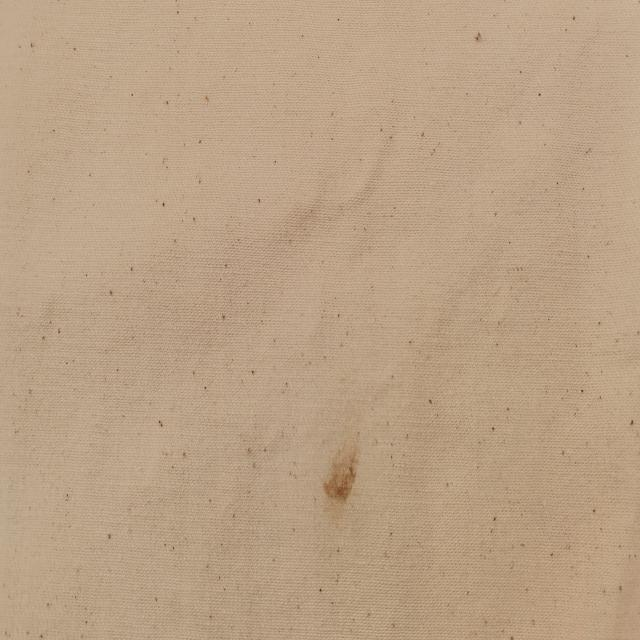taaaches: (322, 424, 363, 513)
